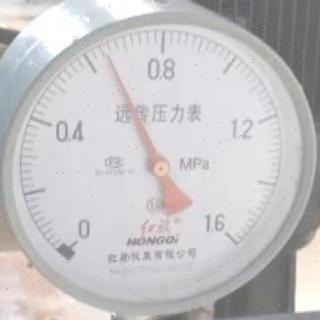gauge: (3, 19, 320, 320), (50, 225, 90, 271), (206, 213, 245, 249), (148, 156, 172, 180), (101, 49, 115, 65)
